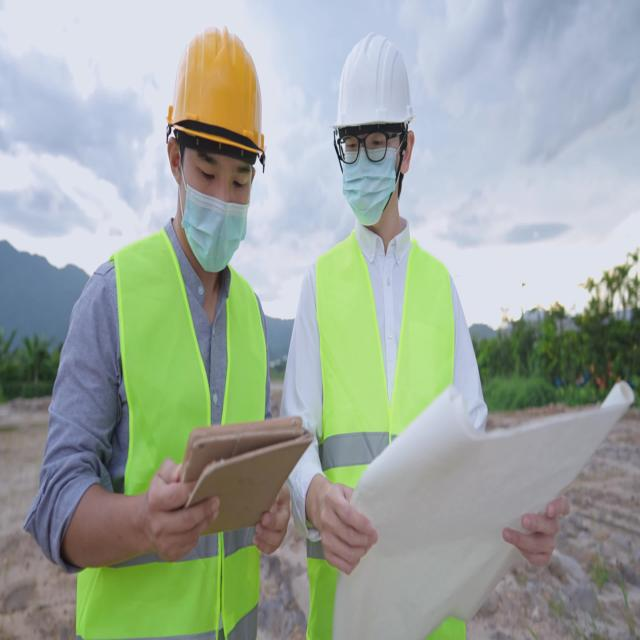helmet: (167, 22, 269, 160), (328, 27, 416, 133)
vest: (68, 229, 267, 640), (315, 236, 459, 640)
